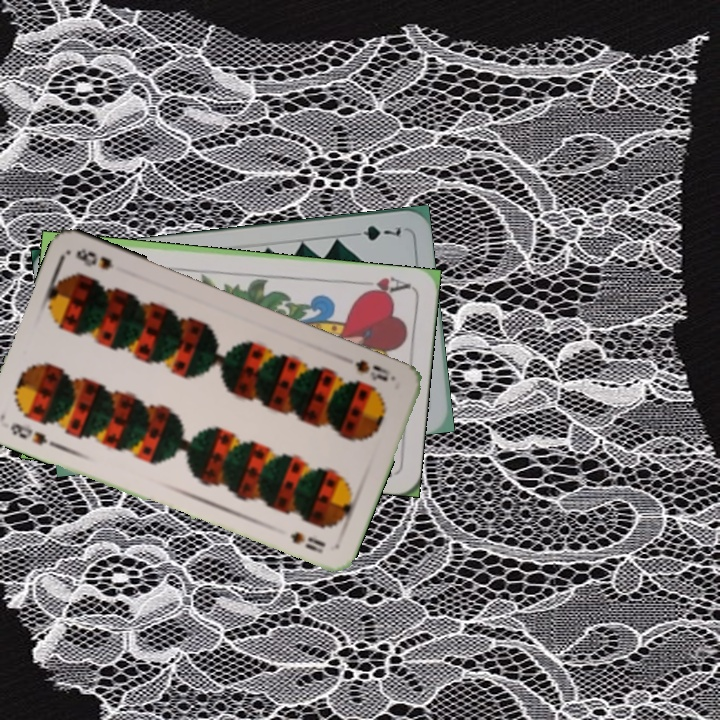G7: (346, 221, 403, 243)
HA: (358, 272, 413, 299)
S8: (6, 419, 50, 448), (351, 356, 393, 384)
